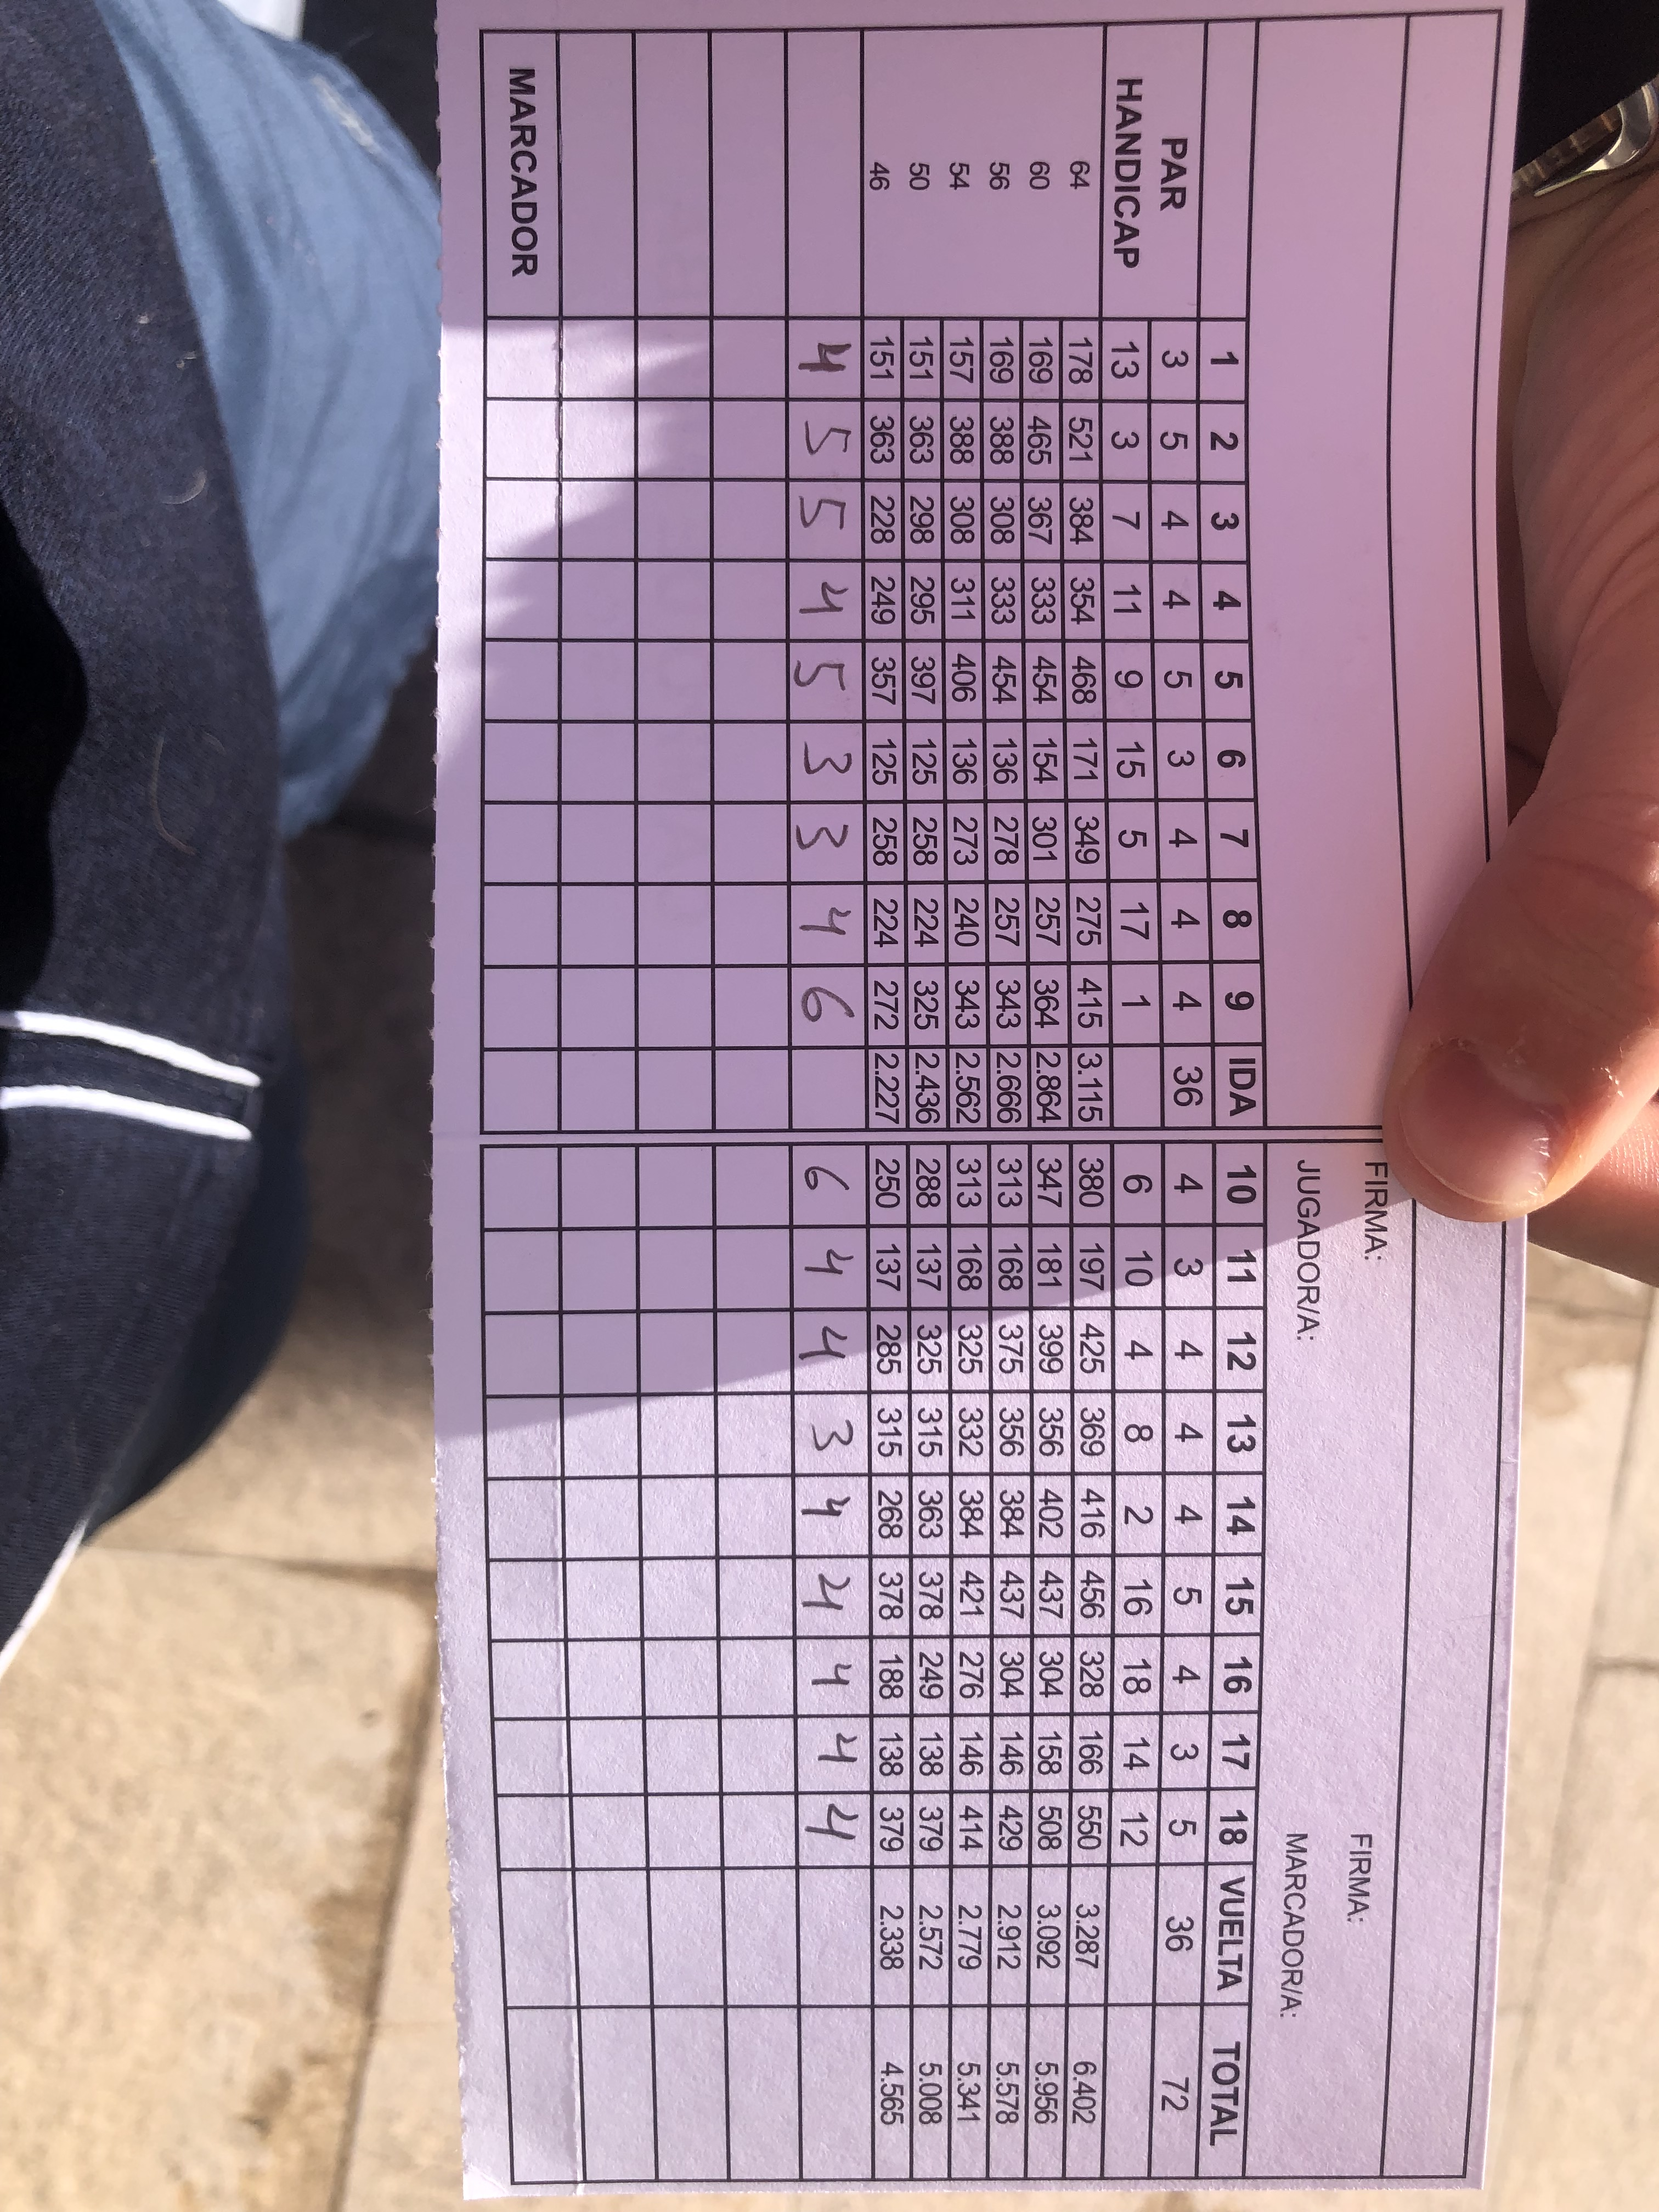par: (1159, 134, 1206, 2120)
score: (800, 329, 870, 1850)
